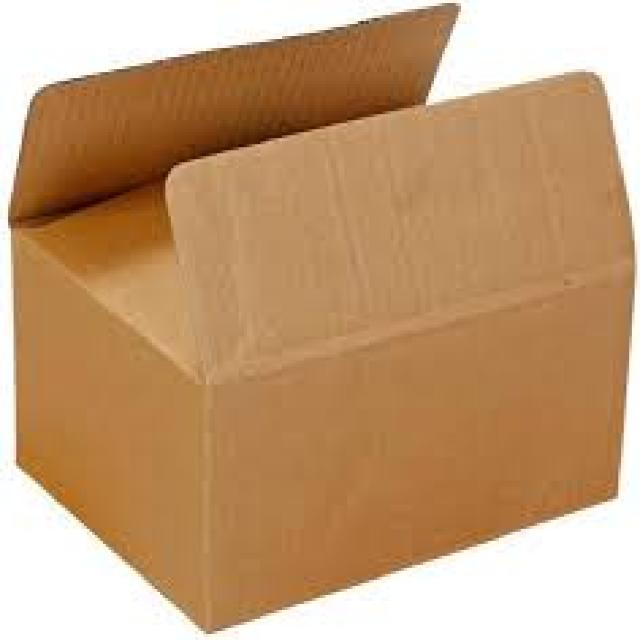cardboard: (6, 0, 635, 628)
